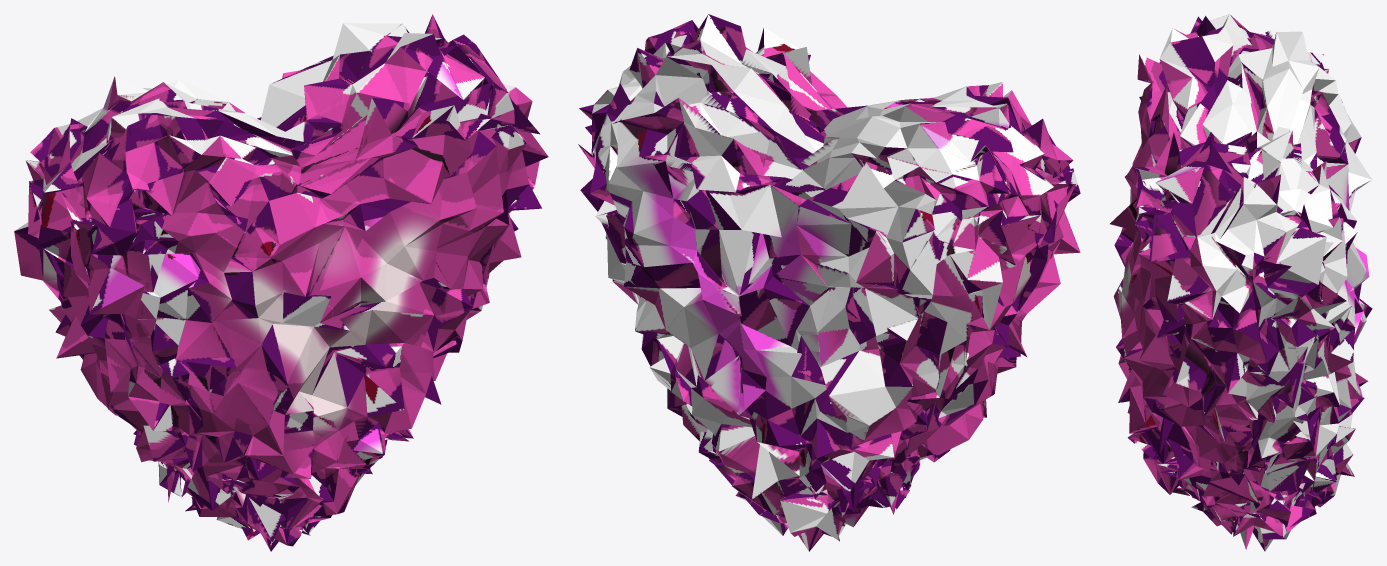
File: heart_splitter.dae
3 renders of one model, left to right at view 1: azimuth 30°, elevation 25°; view 2: azimuth 150°, elevation 25°; view 3: azimuth 270°, elevation 25°, orthographic. The views are drawn at different scales.
Parts seen in each view (by area): view 1: Cube; view 2: Cube; view 3: Cube.
Part boxes in pixels (x1=…): Cube: x1=14, y1=14, x2=548, y2=551; Cube: x1=578, y1=14, x2=1080, y2=551; Cube: x1=1110, y1=14, x2=1372, y2=551.
Bounding box in the file's own units: 27.29 × 13.9 × 27.39.
1 material, 1 textured.
